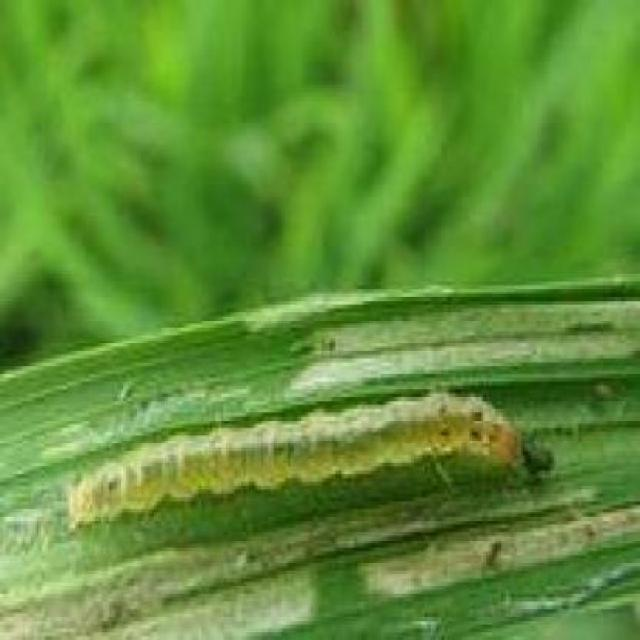leaf-folder: (71, 362, 552, 546)
